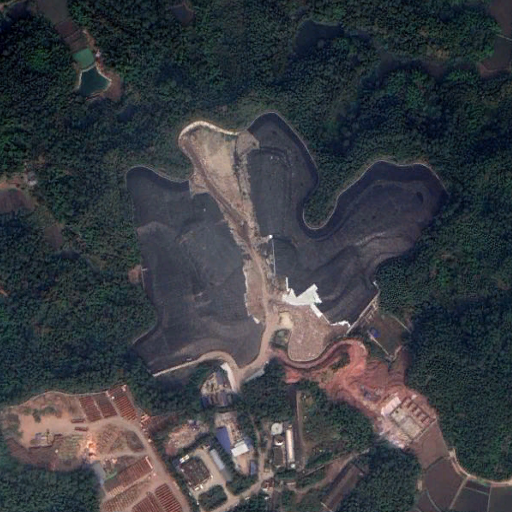lf: (125, 110, 442, 376)
